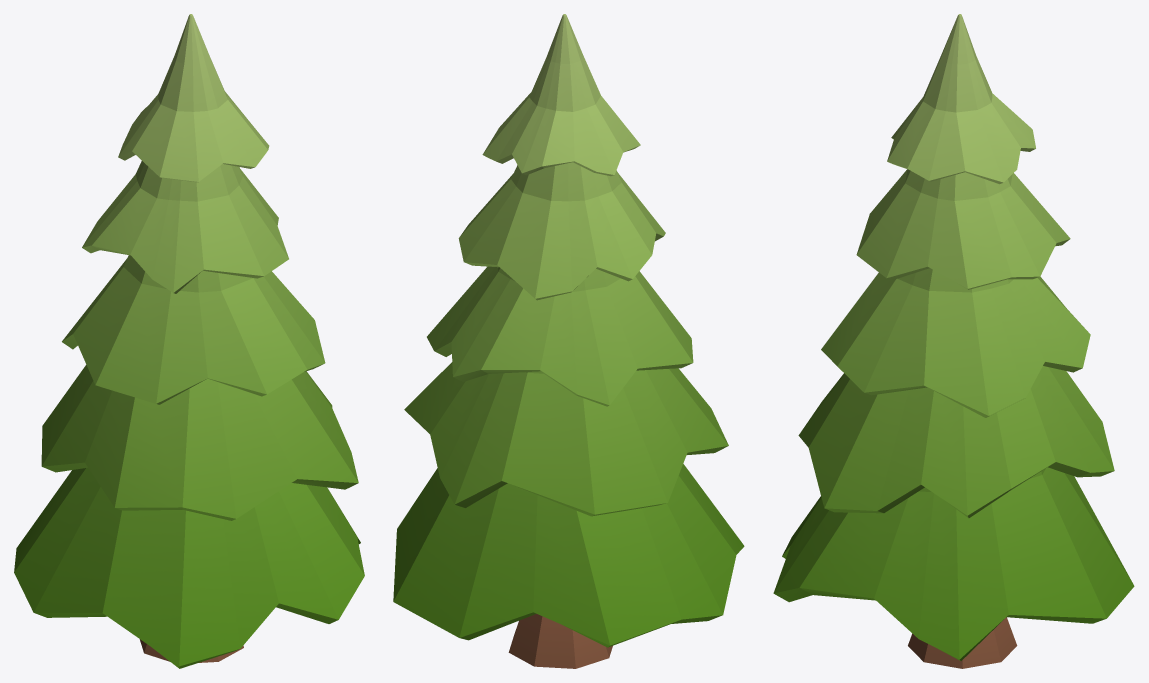
File: fir-tree-large.glb
3 views of the same model, side by side, from view 1: azimuth 30°, elevation 25°; view 2: azimuth 150°, elevation 25°; view 3: azimuth 270°, elevation 25° (orthographic).
Visible parts, largest first — view 1: fir tree large; view 2: fir tree large; view 3: fir tree large.
Boxes of the visible parts, left/top/right/bottom form: fir tree large: left=14, top=14, right=364, bottom=668; fir tree large: left=393, top=14, right=744, bottom=668; fir tree large: left=773, top=14, right=1134, bottom=668.
Bounding box in the file's own units: 4.47 × 8.3 × 4.31.
Materials: 1 (1 with a texture image).
